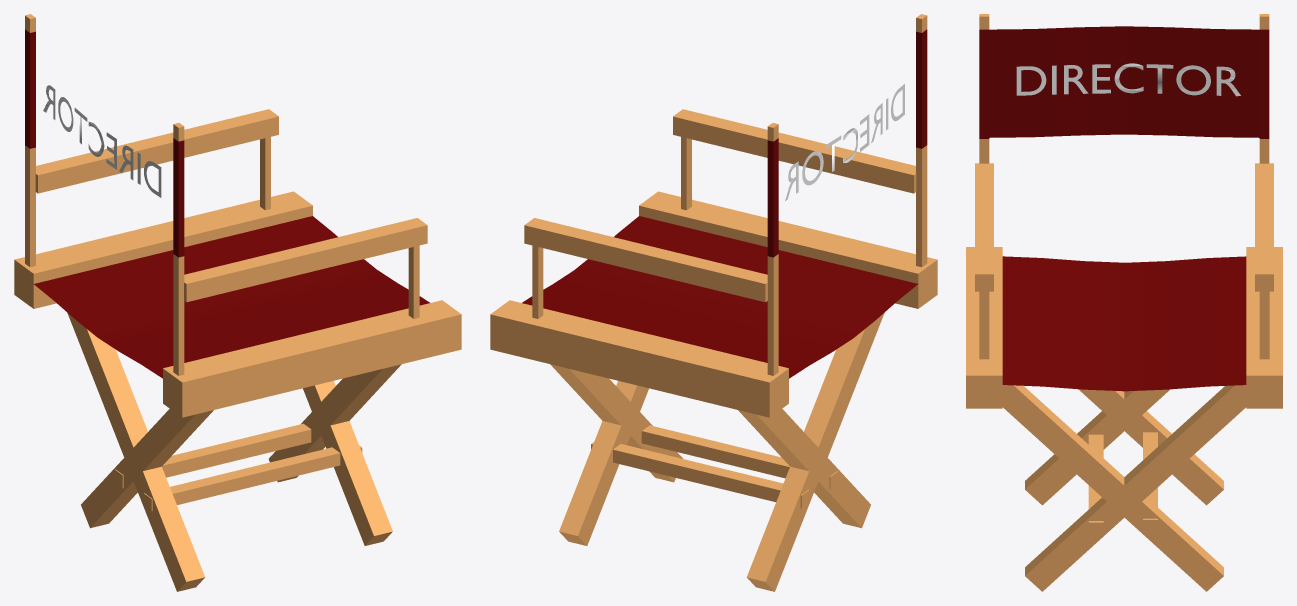
Rendered from CineSilla.fbx.
The picture shows the model from 3 angles, left to right: view 1: azimuth 30°, elevation 25°; view 2: azimuth 150°, elevation 25°; view 3: azimuth 270°, elevation 25°; orthographic projection. The views are drawn at different scales.
Visible parts, largest first — view 1: Chair, Cloth, Text; view 2: Chair, Cloth, Text; view 3: Chair, Cloth, Director, Text.
Boxes of the visible parts, box(x1,y1,x2,y2) form: Chair: box(14, 14, 461, 591); Cloth: box(32, 216, 429, 378); Text: box(43, 85, 161, 197); Chair: box(490, 14, 937, 591); Cloth: box(522, 216, 918, 378); Text: box(785, 84, 904, 200); Chair: box(966, 14, 1282, 591); Cloth: box(1002, 256, 1246, 391); Director: box(989, 26, 1259, 137); Text: box(1016, 63, 1240, 96).
Bounding box in the file's own units: 58.62 × 99.14 × 60.82.
